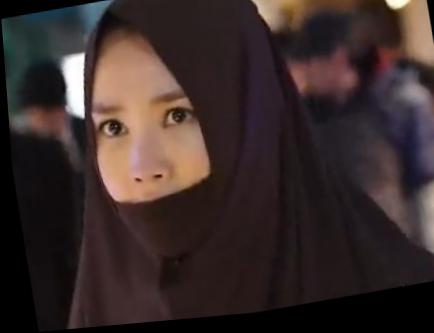WRONG: (76, 72, 253, 265)
